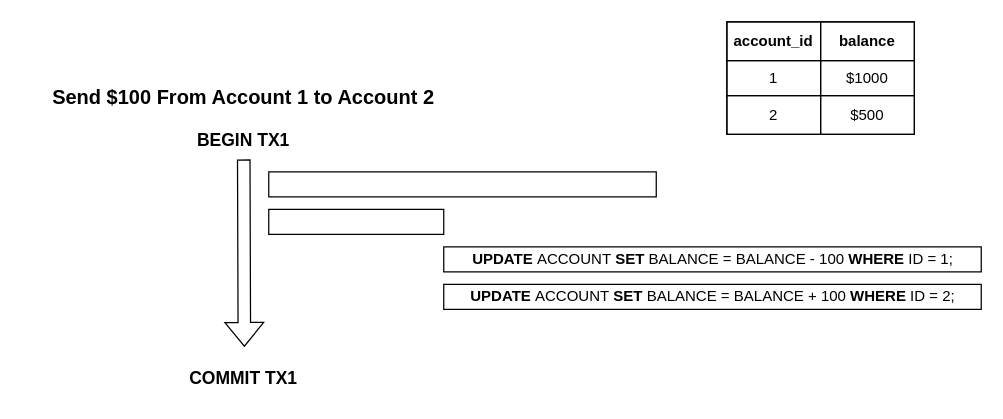
Image size: 1003x419. Some labels were removed from this diagram. The box of each missing label's shape, as (x1, y1, x2, y2) in pixels:
BALANCE > 100: (268, 208, 444, 234)
SELECT balance FROM account WHERE id = 1: (268, 171, 656, 197)
